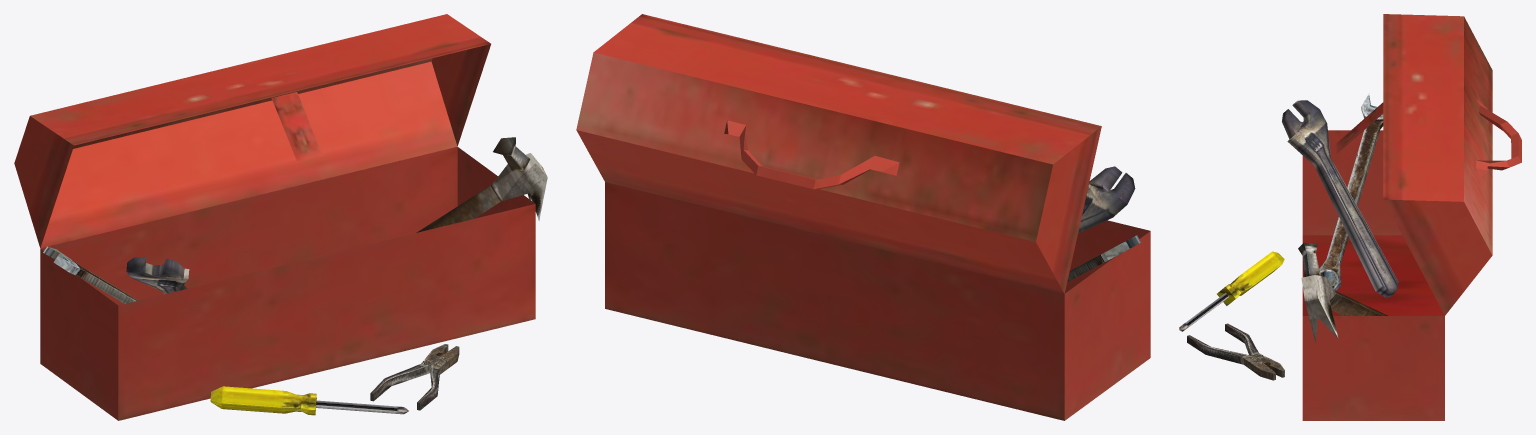
Rendered from tool_toolbox_open.fbx.
The picture shows the model from 3 angles, left to right: view 1: azimuth 30°, elevation 25°; view 2: azimuth 150°, elevation 25°; view 3: azimuth 270°, elevation 25°; orthographic projection. The views are drawn at different scales.
Visible parts, largest first — view 1: ToolBox.002, Hammer.001, ScrewDriverPlastic.001, Plires.002, AWrench.002, Wrench; view 2: ToolBox.002, AWrench.002, Wrench; view 3: ToolBox.002, AWrench.002, Hammer.001, Wrench, Plires.002, ScrewDriverPlastic.001.
Part boxes in pixels (<box>): ToolBox.002: <box>14,14,535,420</box>; Hammer.001: <box>416,137,547,232</box>; ScrewDriverPlastic.001: <box>210,386,408,415</box>; Plires.002: <box>370,344,459,410</box>; AWrench.002: <box>126,256,189,294</box>; Wrench: <box>43,246,138,303</box>; ToolBox.002: <box>576,14,1150,420</box>; AWrench.002: <box>1078,166,1135,233</box>; Wrench: <box>1067,235,1140,281</box>; ToolBox.002: <box>1302,14,1521,420</box>; AWrench.002: <box>1282,100,1398,297</box>; Hammer.001: <box>1298,243,1387,342</box>; Wrench: <box>1319,94,1383,290</box>; Plires.002: <box>1187,323,1284,380</box>; ScrewDriverPlastic.001: <box>1179,251,1284,331</box>.
Size of the model in its own units: 216 by 109 by 152.
6 materials, 6 textured.
